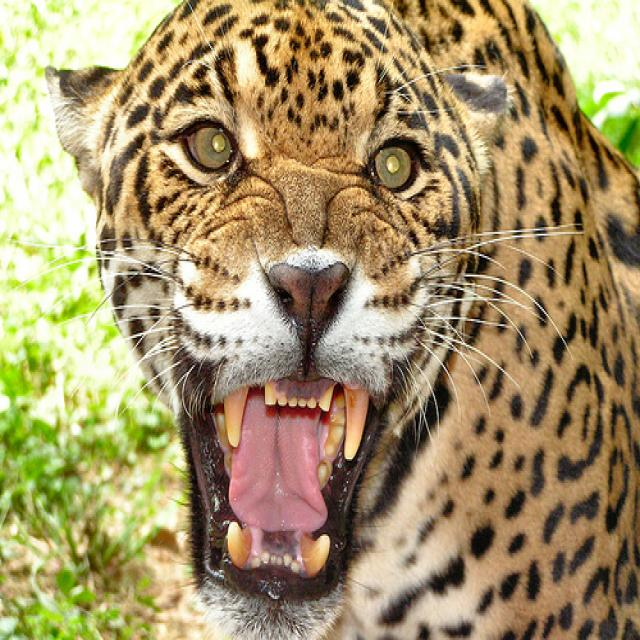Leopard: (40, 0, 636, 637)
